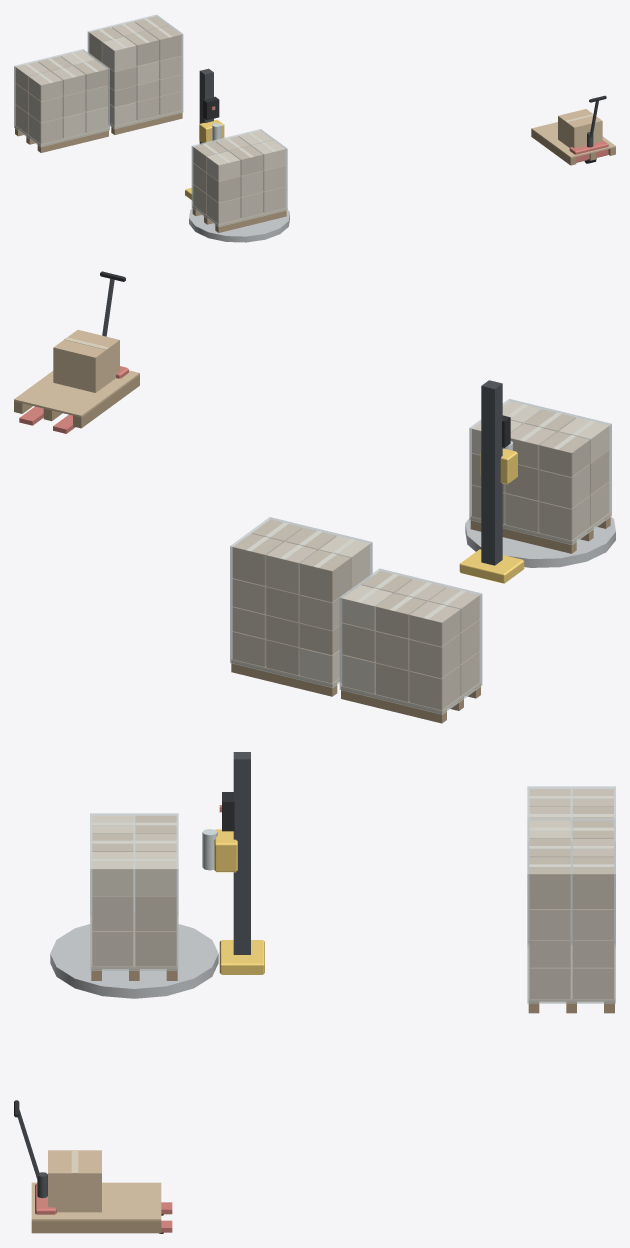
The model's file is einrichtung_wareneingang_buehne.glb.
The picture shows the model from 3 angles, top to bottom: view 1: azimuth 30°, elevation 25°; view 2: azimuth 150°, elevation 25°; view 3: azimuth 270°, elevation 25°; orthographic projection. The views are drawn at different scales.
Parts seen in each view (by area): view 1: einrichtung_wareneingang_buehne; view 2: einrichtung_wareneingang_buehne; view 3: einrichtung_wareneingang_buehne.
Boxes of the visible parts, <box> form: einrichtung_wareneingang_buehne: <box>14,14,615,242</box>; einrichtung_wareneingang_buehne: <box>14,271,615,723</box>; einrichtung_wareneingang_buehne: <box>14,752,615,1233</box>.
Size of the model in its own units: 7.51 by 2.12 by 5.58.
